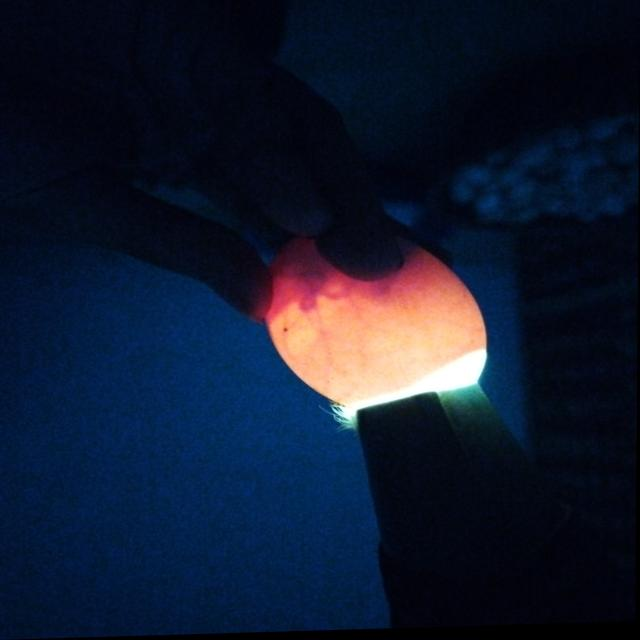Embriao: (264, 238, 438, 326)
